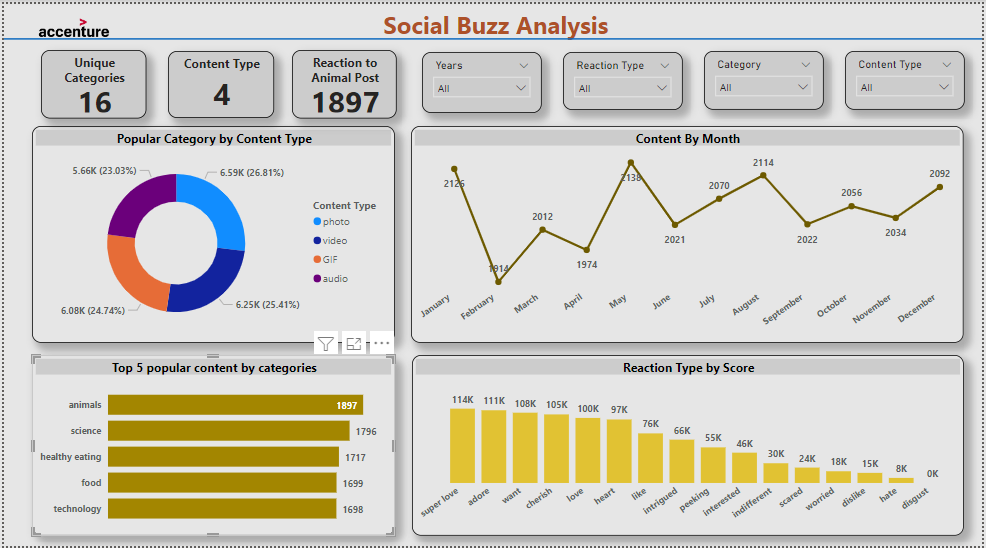

The page's visual inventory and layout, read from the dashboard file:
{"tool":"powerbi","page":{"name":"social buzz analysis","canvas":[1300,720],"ordinal":0},"visuals":[{"type":"card","title":"Unique Categories","fields":{"Values":["Count(social buzz FullDataset.Category)"]},"box":[49.8,61.5,140.5,90.7],"z":0},{"type":"card","title":"Content Type","fields":{"Values":["Count(social buzz FullDataset.Content Type)"]},"box":[218.1,62.6,141.2,89.5],"z":1000},{"type":"donutChart","title":"Popular Category by Content Type","fields":{"Category":["social buzz FullDataset.Content Type"],"Y":["CountNonNull(social buzz FullDataset.Category)"]},"box":[37.7,162.2,482.3,288],"z":2000},{"type":"clusteredBarChart","title":"Top 5 popular categories by score","fields":{"Y":["Sum(social buzz FullDataset.Score)"],"Category":["social buzz FullDataset.Category"]},"box":[37.7,466.9,482.3,240.4],"z":3000},{"type":"lineChart","title":"Content By Month ","fields":{"Y":["CountNonNull(social buzz FullDataset.Content ID)"],"Category":["social buzz FullDataset.Datetime.Variation.Date Hierarchy.Month"]},"box":[541,162.2,733.9,288],"z":4000},{"type":"textbox","box":[218,0,870.7,57.1],"z":5000},{"type":"card","title":"Reaction to Animal Post","fields":{"Values":["CountNonNull(social buzz FullDataset.Reaction Type)"]},"box":[382,61.5,139,90.7],"z":6000},{"type":"slicer","fields":{"Values":["social buzz FullDataset.start of month"]},"box":[555,63.7,159.4,81.1],"z":7000},{"type":"slicer","fields":{"Values":["social buzz FullDataset.Content Type"]},"box":[1116.9,62.3,159.4,78.3],"z":8000},{"type":"slicer","fields":{"Values":["social buzz FullDataset.Category"]},"box":[929.6,62.3,159.4,78.3],"z":9000},{"type":"slicer","fields":{"Values":["social buzz FullDataset.Reaction Type"]},"box":[742.3,63.7,159.4,76.9],"z":10000},{"type":"columnChart","title":"Reaction Type by Score","fields":{"Category":["social buzz FullDataset.Reaction Type"],"Y":["Sum(social buzz FullDataset.Score)"]},"box":[541.5,466.8,733.2,240],"z":11000},{"type":"shape","box":[0,39.5,1299.5,13.2],"z":12000},{"type":"image","box":[27.8,0,128.8,62.9],"z":13000}]}

Visuals, with their boxes in screenshot pixels (x1, y1, x2, y2), scaled from the page's 1300x720 canvas onto the 986x548 screenshot:
"Unique Categories" card: 38/47/144/116
"Content Type" card: 165/48/273/116
"Popular Category by Content Type" donutChart: 29/123/394/343
"Top 5 popular categories by score" clusteredBarChart: 29/355/394/538
"Content By Month " lineChart: 410/123/967/343
textbox: 165/0/826/43
"Reaction to Animal Post" card: 290/47/395/116
slicer - social buzz FullDataset.start of month: 421/48/542/110
slicer - social buzz FullDataset.Content Type: 847/47/968/107
slicer - social buzz FullDataset.Category: 705/47/826/107
slicer - social buzz FullDataset.Reaction Type: 563/48/684/107
"Reaction Type by Score" columnChart: 411/355/967/538
shape: 0/30/985/40
image: 21/0/119/48
